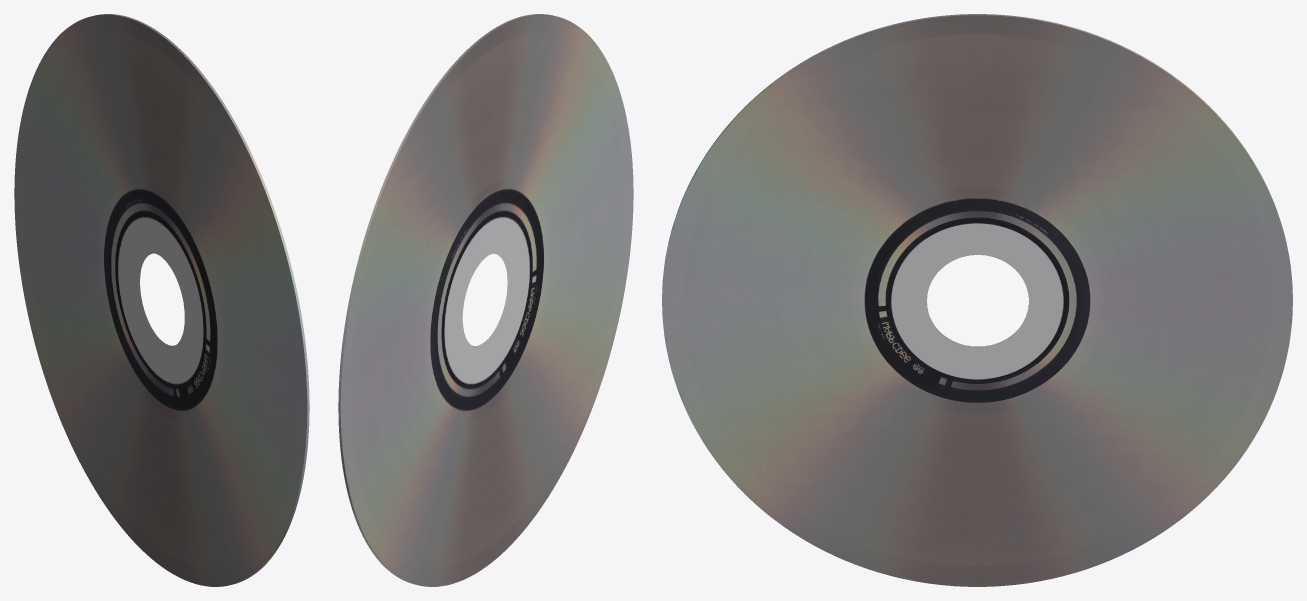
3 renders of one model, left to right at view 1: azimuth 30°, elevation 25°; view 2: azimuth 150°, elevation 25°; view 3: azimuth 270°, elevation 25°, orthographic. The views are drawn at different scales.
Visible parts, largest first — view 1: CD; view 2: CD; view 3: CD.
Boxes of the visible parts, x1=… form: CD: x1=14, y1=14, x2=309, y2=586; CD: x1=338, y1=14, x2=633, y2=586; CD: x1=662, y1=14, x2=1292, y2=586.
Size of the model in its own units: 0.0111 by 1.87 by 1.87.
Materials: 2 (2 with a texture image).
